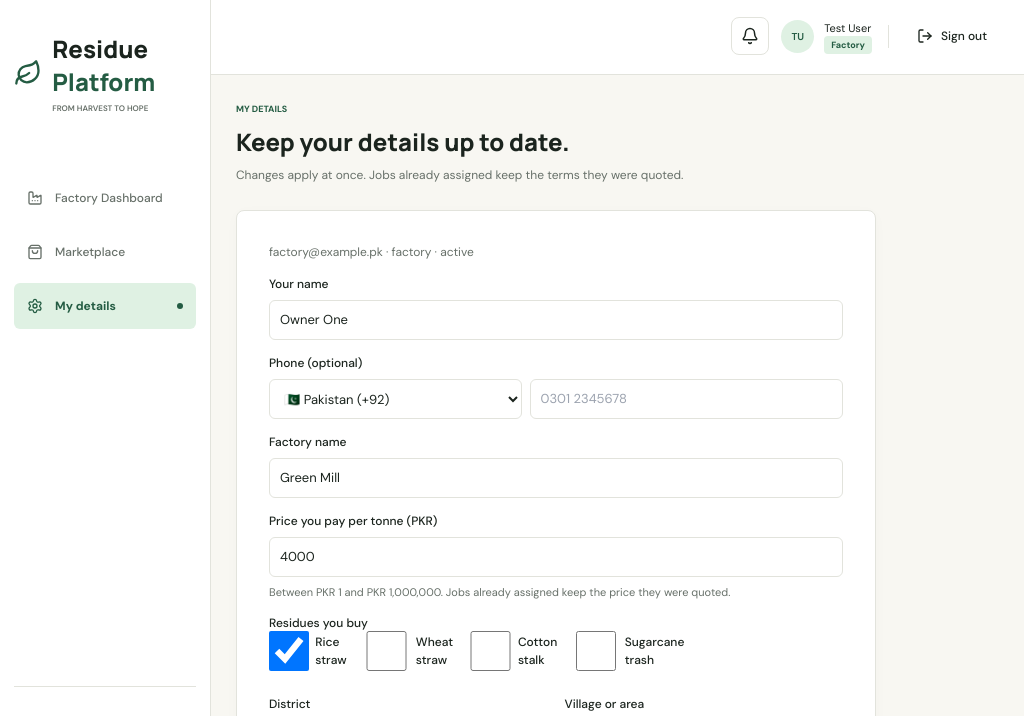
it: Settings: a factory edits its own details › a factory must keep at least one residue
This screenshot has width=1024, height=716.
Expected: the field labelled "Factory name" is shown, [269,458,843,498]
Click the checkbox labelled "Rice straw" at {"x": 289, "y": 651}, box [269,631,309,671]
(page scrolled)
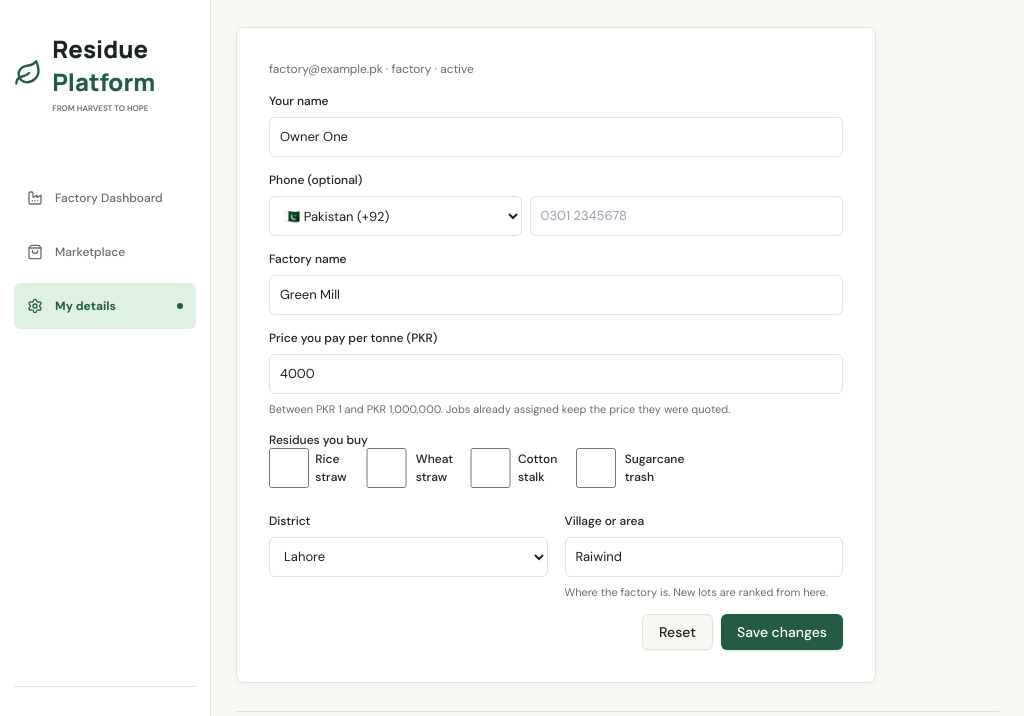
Click the button "Save changes" at {"x": 782, "y": 632}, box [721,614,843,650]
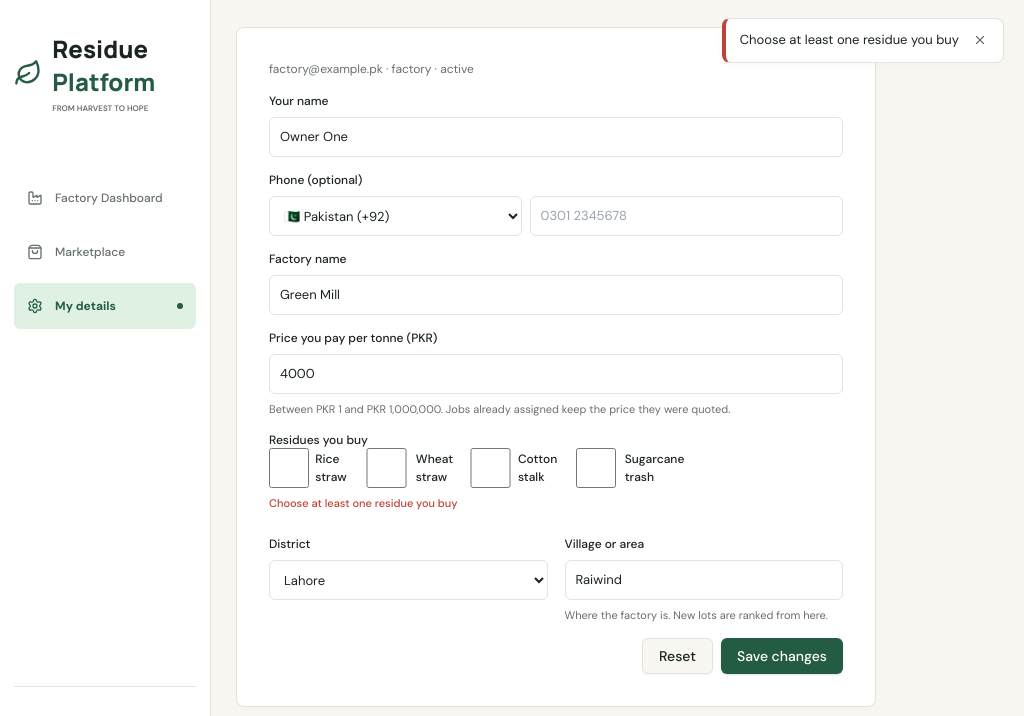
Expected: the text "Choose at least one residue you buy" below "Rice straw" is shown, [269,496,458,510]
